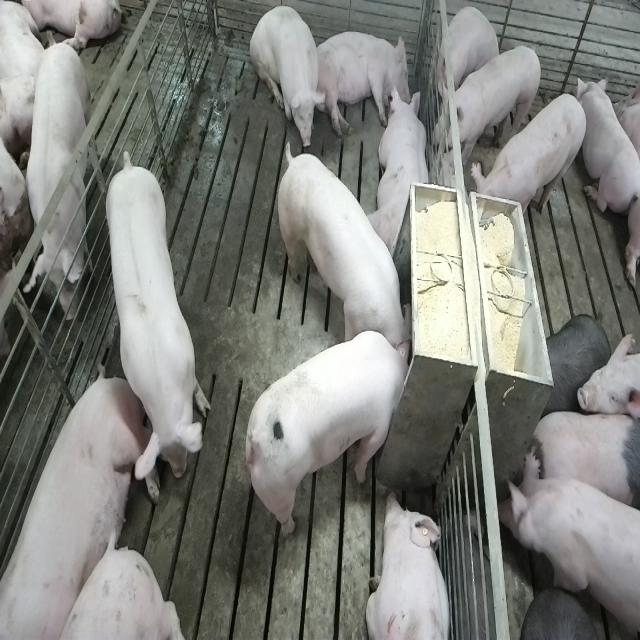Feeding: (249, 330, 420, 539), (275, 138, 410, 360)
Lateral_lying: (316, 30, 412, 139)
Sitting: (250, 4, 328, 150)
Standing: (102, 150, 208, 494), (0, 239, 78, 640), (7, 32, 104, 334), (498, 450, 638, 640), (472, 91, 589, 235), (434, 44, 542, 166), (528, 404, 637, 513), (540, 313, 610, 423), (520, 588, 608, 640)
Sternal_lying: (368, 490, 454, 640), (371, 86, 433, 261), (579, 73, 638, 222)
